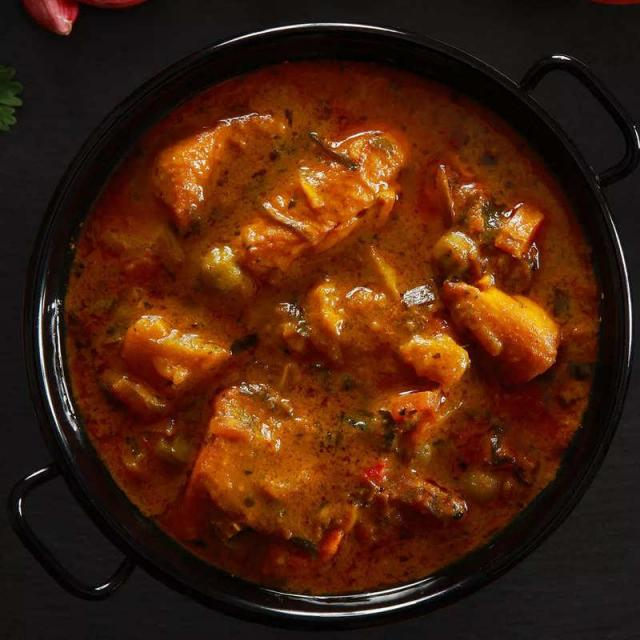chicken: (83, 67, 568, 586)
